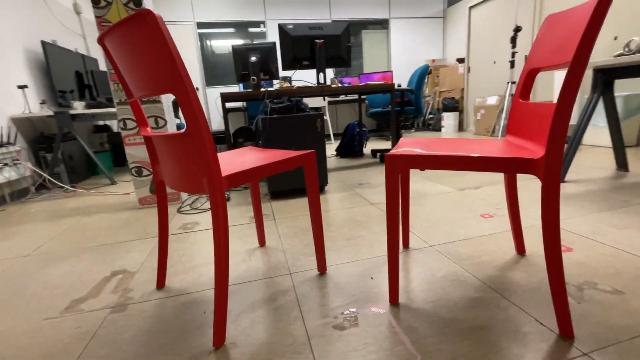Chair: (376, 0, 618, 354), (97, 4, 335, 360)
